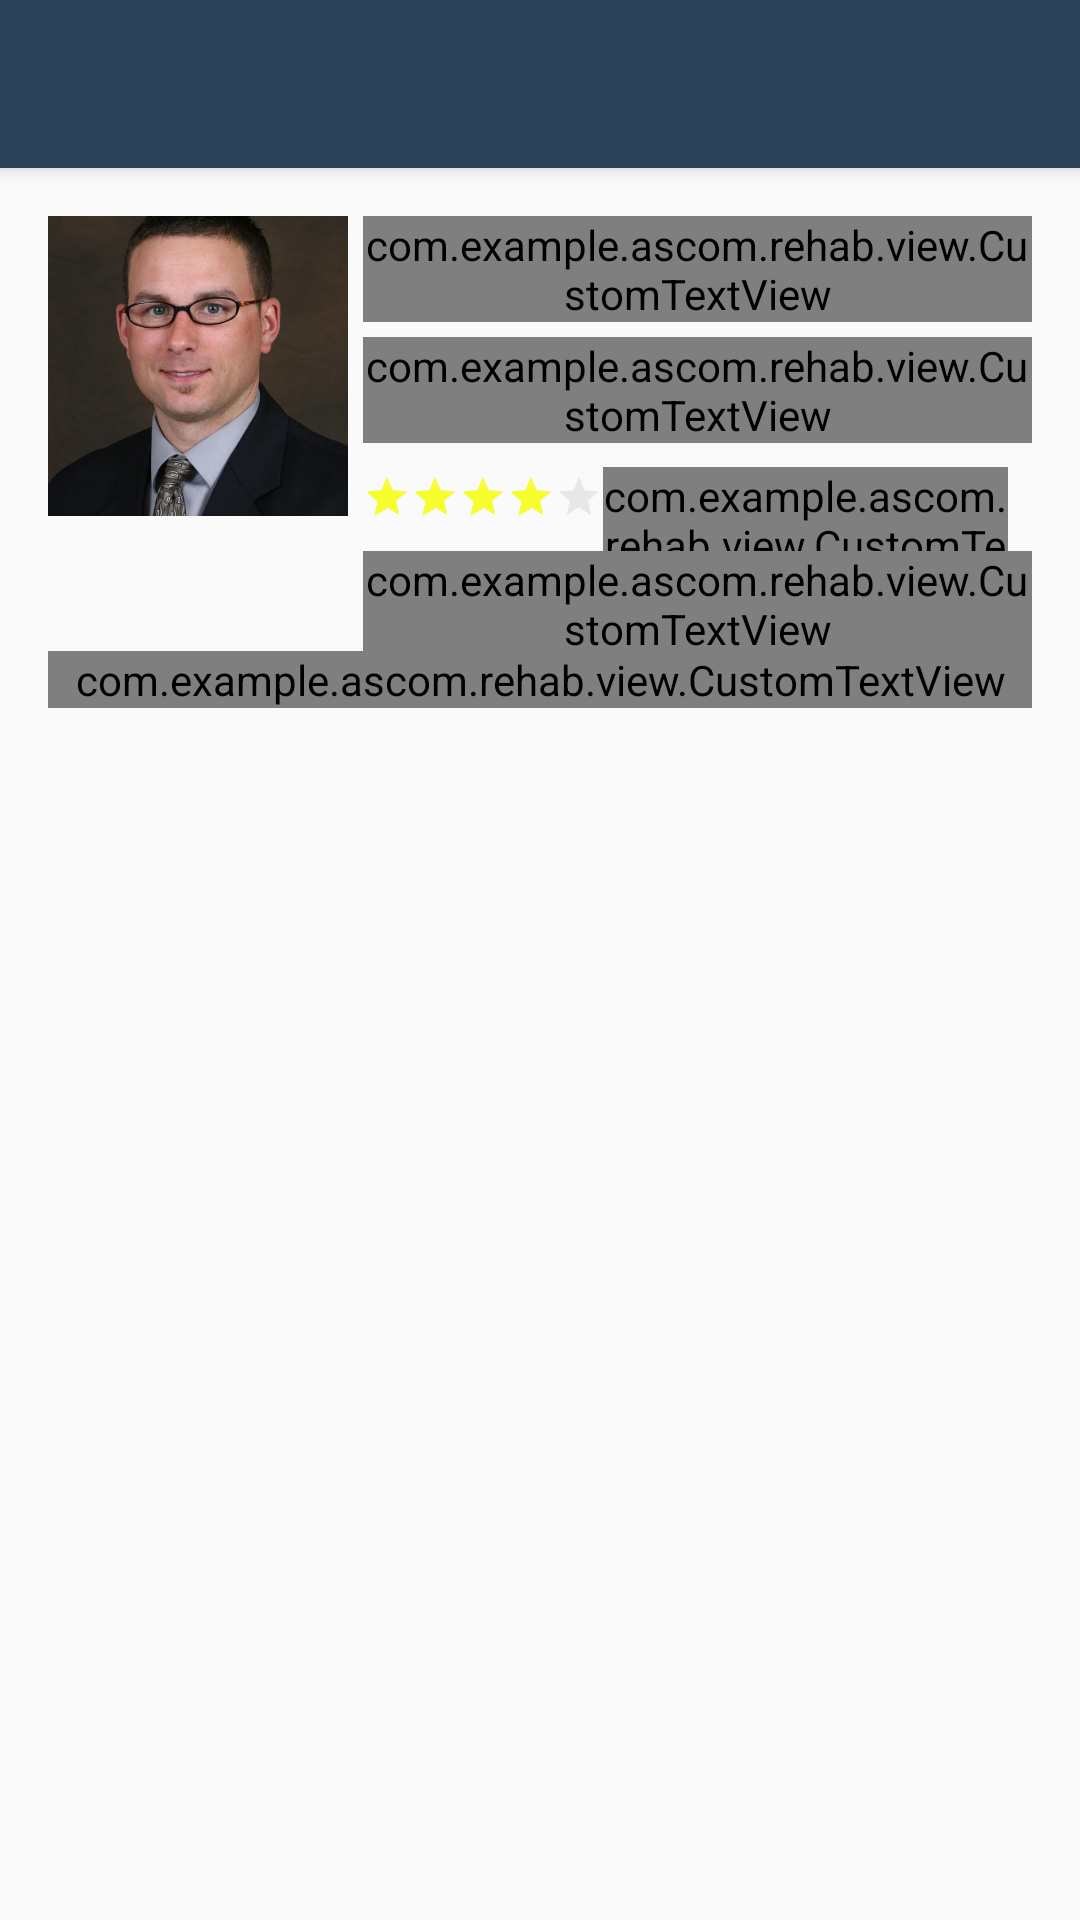

Named icons in this screenshot (1080×1920) and their centers, (x,y):
profile: (198,366)
